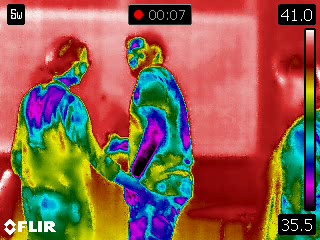human: (9, 36, 162, 240), (107, 31, 194, 240)
